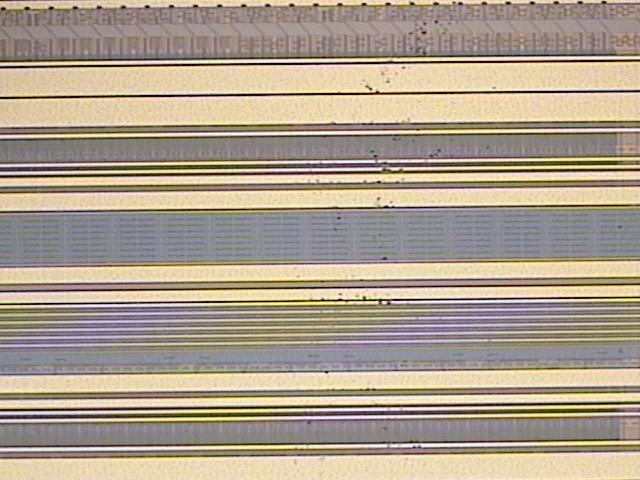PO CONTAMINATION: (284, 1, 505, 472)
